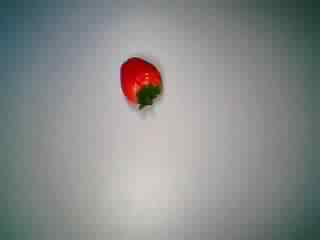strawberry: (106, 52, 174, 116)
